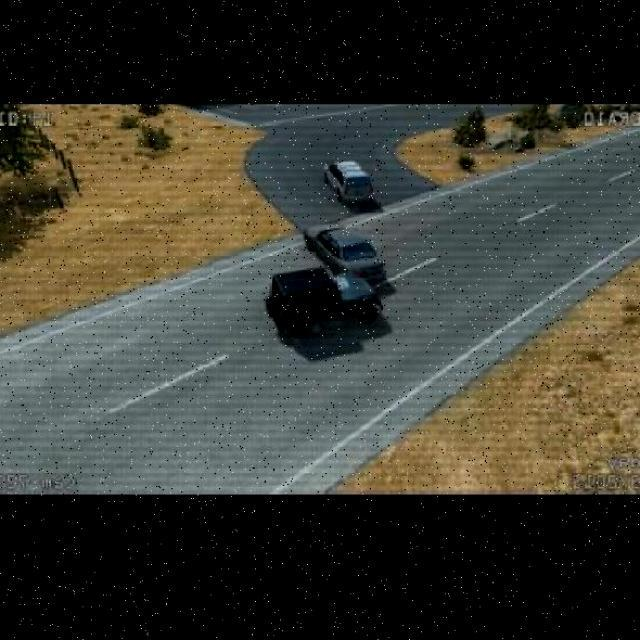accident: (263, 223, 385, 340)
